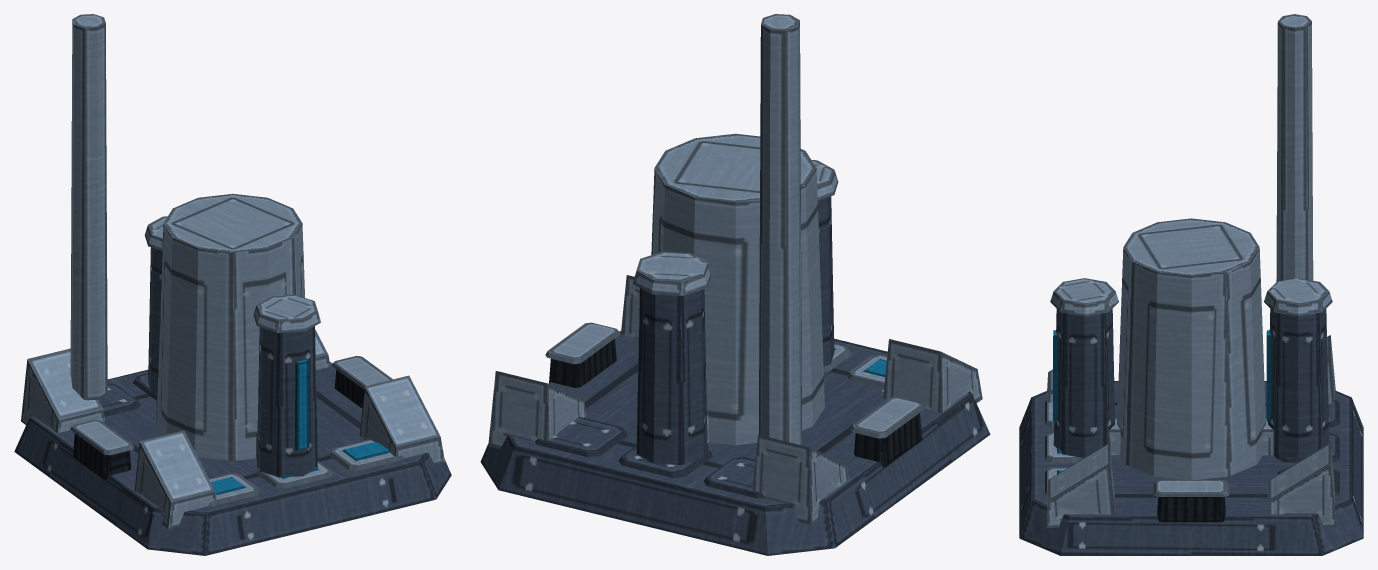
File: building-gas.fbx
3 renders of one model, left to right at view 1: azimuth 30°, elevation 25°; view 2: azimuth 150°, elevation 25°; view 3: azimuth 270°, elevation 25°, orthographic. The views are drawn at different scales.
Parts seen in each view (by area): view 1: building-gas; view 2: building-gas; view 3: building-gas.
Part boxes in pixels (<box>): building-gas: <box>14,14,451,555</box>; building-gas: <box>480,14,990,555</box>; building-gas: <box>1019,14,1363,555</box>.
Bounding box in the file's own units: 1456 × 1950 × 1456.
1 material, 1 textured.
